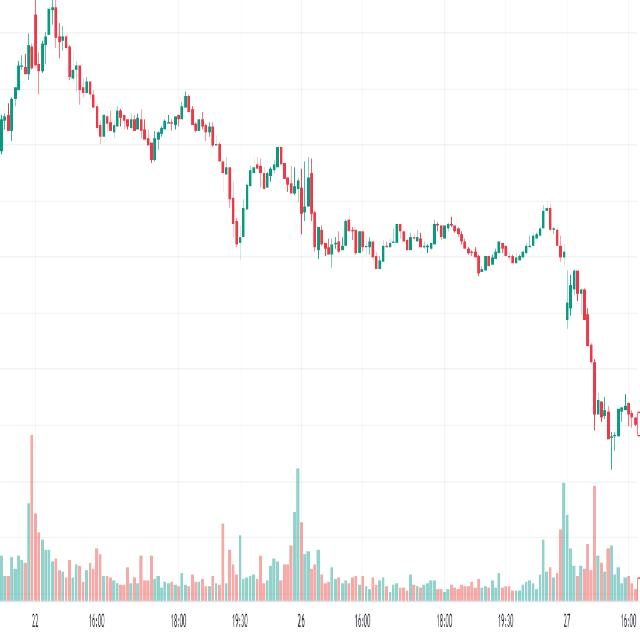Inverse-Head-Shoulders: (182, 81, 285, 266)
